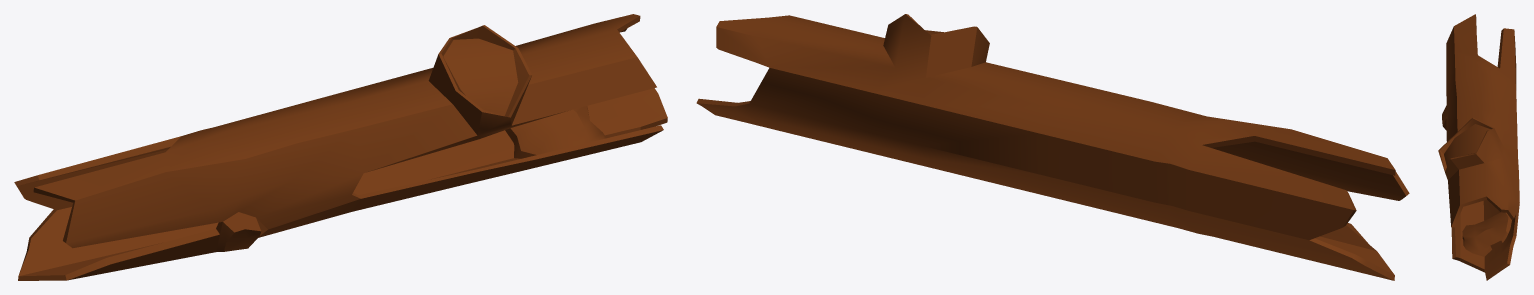
Rendered from M_Trunk1.fbx.
3 views of the same model, side by side, from view 1: azimuth 30°, elevation 25°; view 2: azimuth 150°, elevation 25°; view 3: azimuth 270°, elevation 25° (orthographic). The views are drawn at different scales.
Visible parts, largest first — view 1: M_Trunk; view 2: M_Trunk; view 3: M_Trunk.
Part boxes in pixels (<box>): M_Trunk: <box>14,14,667,280</box>; M_Trunk: <box>696,14,1409,280</box>; M_Trunk: <box>1438,14,1519,280</box>.
Bounding box in the file's own units: 3.29 × 0.6899 × 0.5501.
